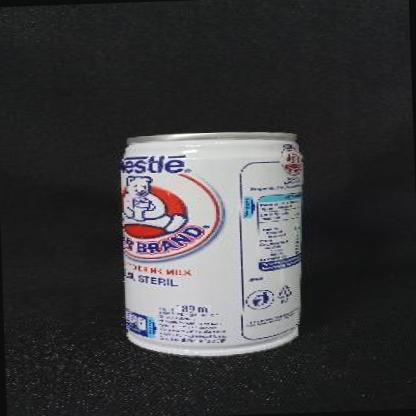alumunium_can: (118, 130, 312, 361)
